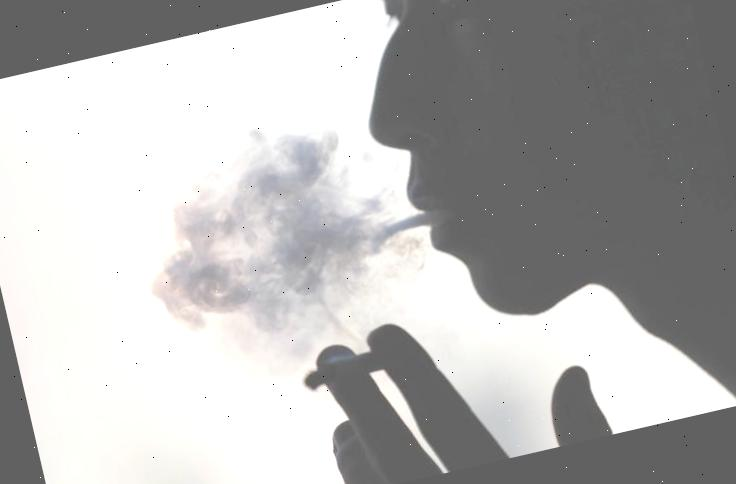smoke: (114, 112, 417, 379)
